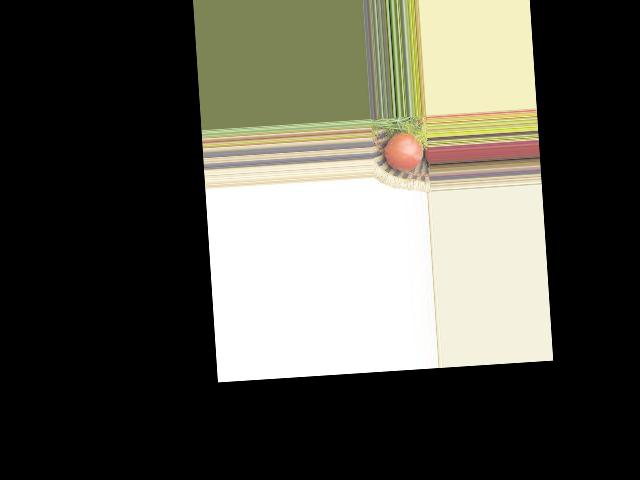tomato: (383, 130, 424, 172)
